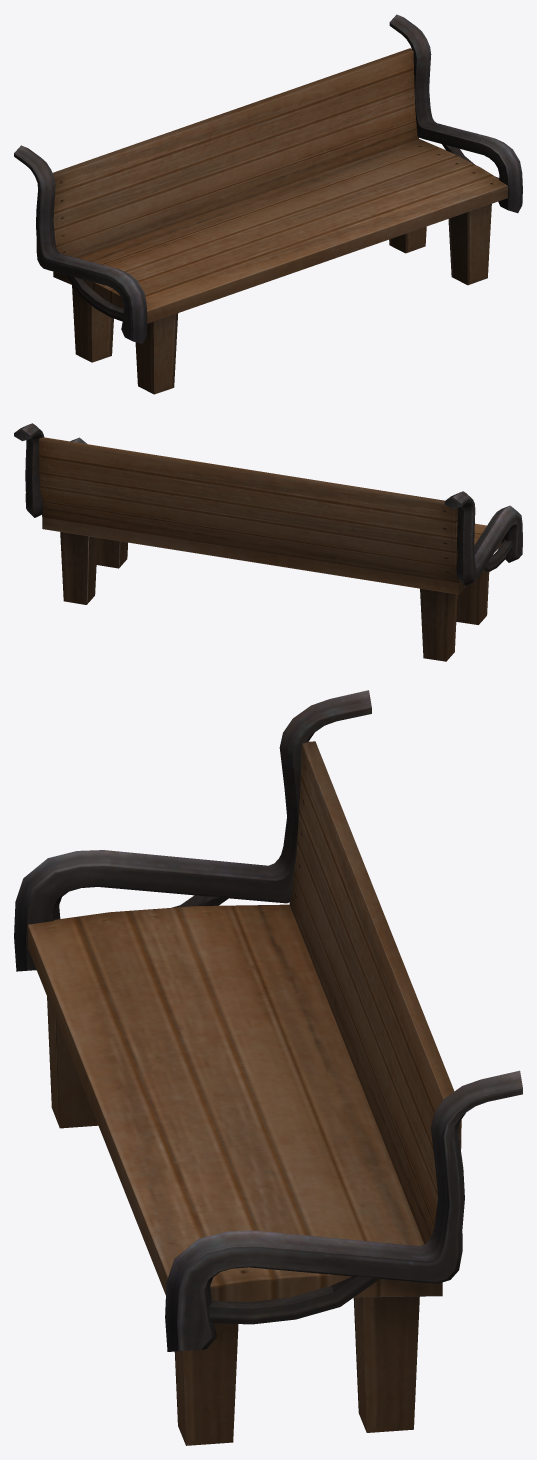
The model's file is SiWangPenQuan_01_changyi_01.FBX.
3 renders of one model, top to bottom at view 1: azimuth 30°, elevation 25°; view 2: azimuth 150°, elevation 25°; view 3: azimuth 270°, elevation 25°, orthographic. The views are drawn at different scales.
Parts seen in each view (by area): view 1: SiWangPenQuan_01_changyi_01; view 2: SiWangPenQuan_01_changyi_01; view 3: SiWangPenQuan_01_changyi_01.
Part boxes in pixels (<box>): SiWangPenQuan_01_changyi_01: <box>14,14,522,394</box>; SiWangPenQuan_01_changyi_01: <box>14,423,522,661</box>; SiWangPenQuan_01_changyi_01: <box>14,690,522,1445</box>.
Bounding box in the file's own units: 925 × 384 × 474.
